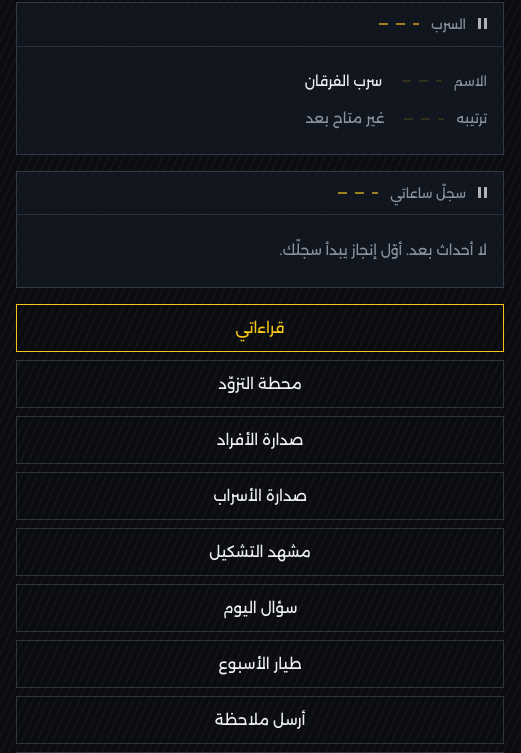
Test: محطة التزوّد — و-٨ › تعرض لترات السرب وسعة الخزّان وآخر تقييم
(page scrolled)
Step 1. Click the button "محطة التزوّد" → click(260, 384), box [16, 360, 504, 408]
(page scrolled)
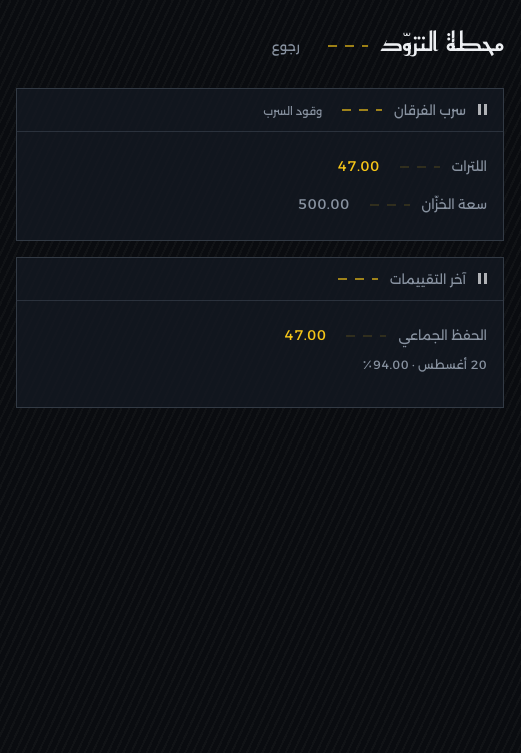
Expected: the text "500.00" is shown, [298, 195, 350, 213]
Expected: the text "الحفظ الجماعي" is shown, [398, 324, 487, 346]
